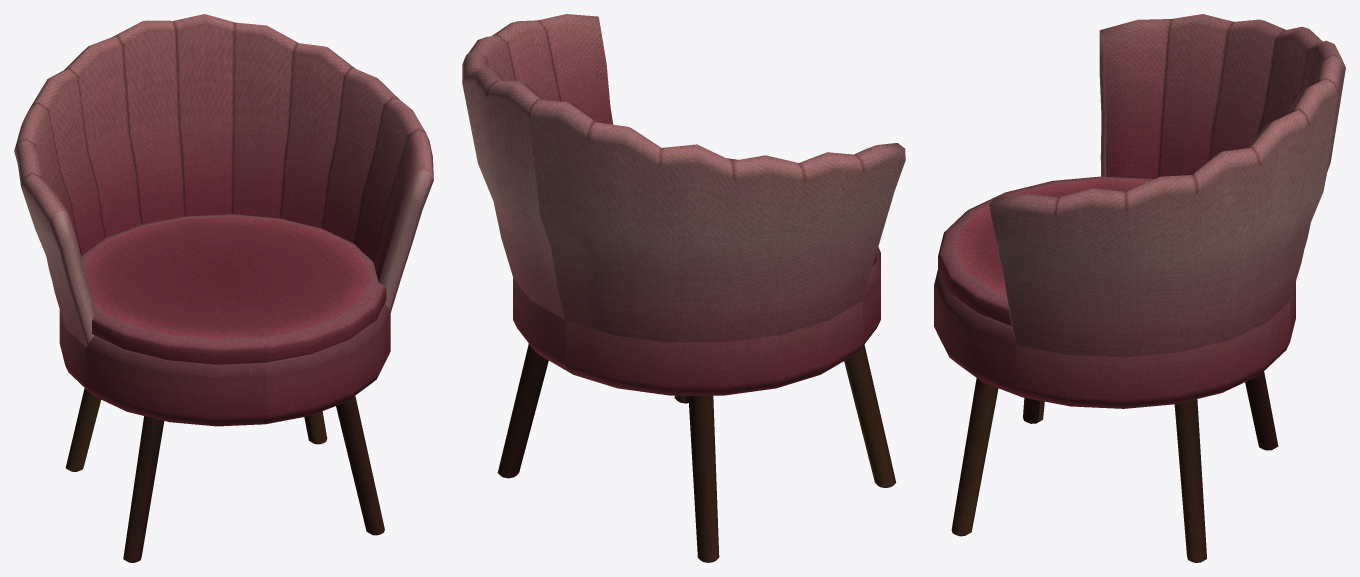
Rendered from SM_Sofa_Small.fbx.
The picture shows the model from 3 angles, left to right: view 1: azimuth 30°, elevation 25°; view 2: azimuth 150°, elevation 25°; view 3: azimuth 270°, elevation 25°; orthographic projection. The views are drawn at different scales.
Visible parts, largest first — view 1: SM_Sofa_Small; view 2: SM_Sofa_Small; view 3: SM_Sofa_Small.
Part boxes in pixels (left/top/right/bottom): SM_Sofa_Small: left=14, top=14, right=433, bottom=562; SM_Sofa_Small: left=462, top=14, right=905, bottom=562; SM_Sofa_Small: left=934, top=14, right=1345, bottom=562.
Size of the model in its own units: 0.7399 by 0.7861 by 0.6639.
